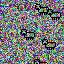sheep: (35, 3, 49, 16), (20, 29, 35, 41), (47, 9, 61, 20), (42, 39, 56, 50), (33, 58, 48, 64)
